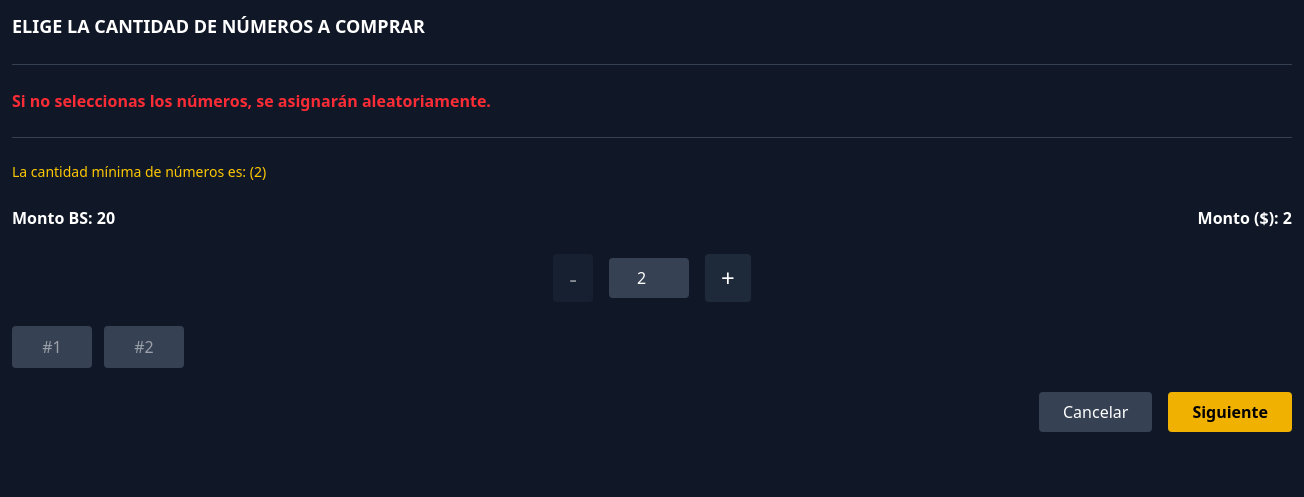
Test: <QuantitySelector /> › shows general error when availability check throws; re-enables after
Type "1" into the field named "Número 1" at (52, 347), box [12, 326, 92, 368]
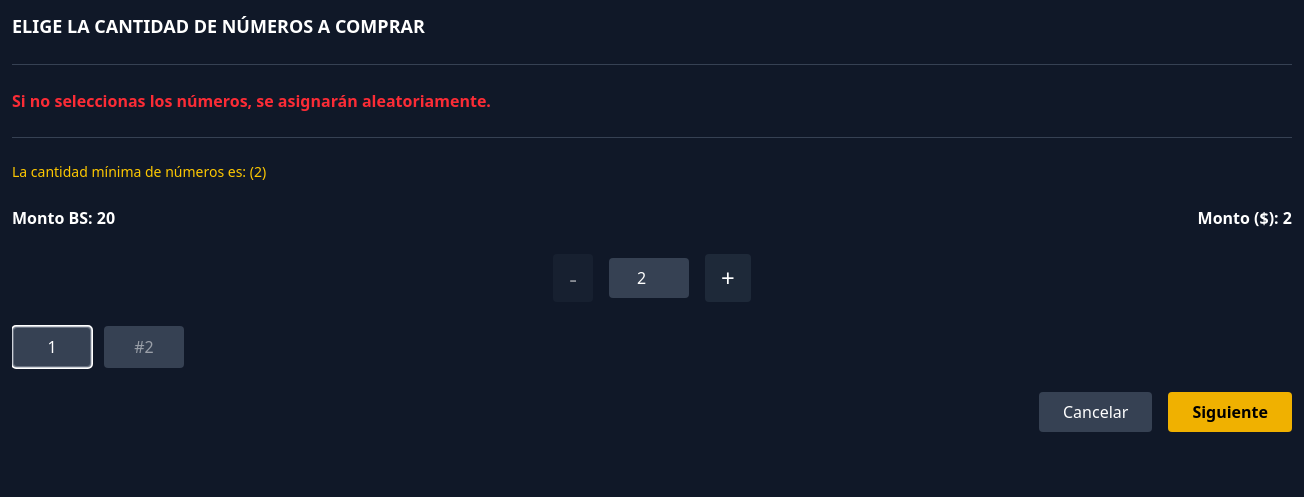
Click the button "Siguiente" at (1230, 412), box [1168, 392, 1292, 432]
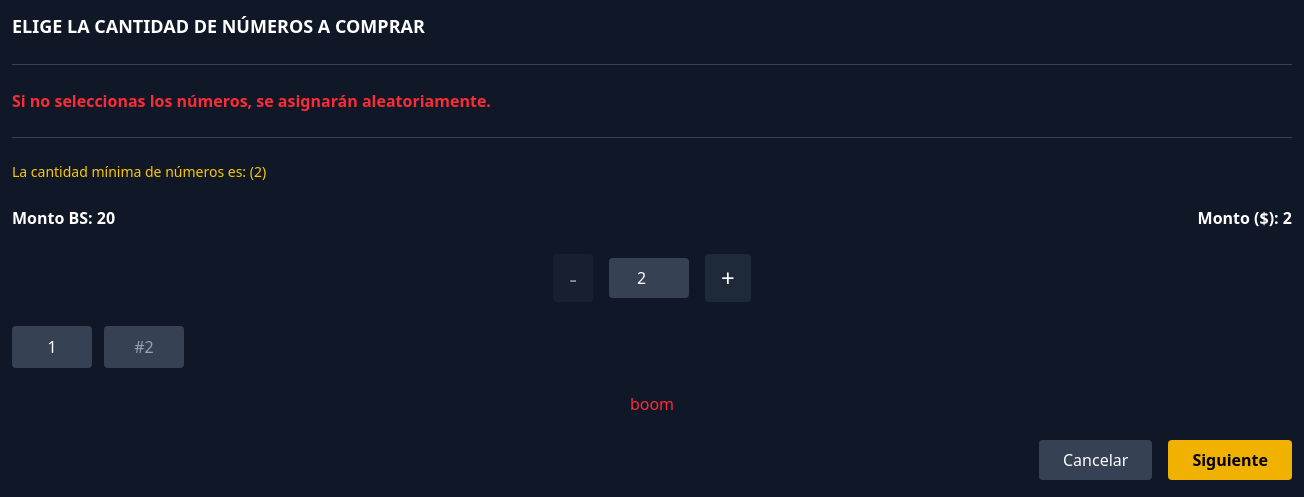
Expected: the text "boom" is shown, [630, 393, 674, 415]
